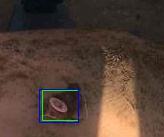text: (42, 90, 78, 120)
